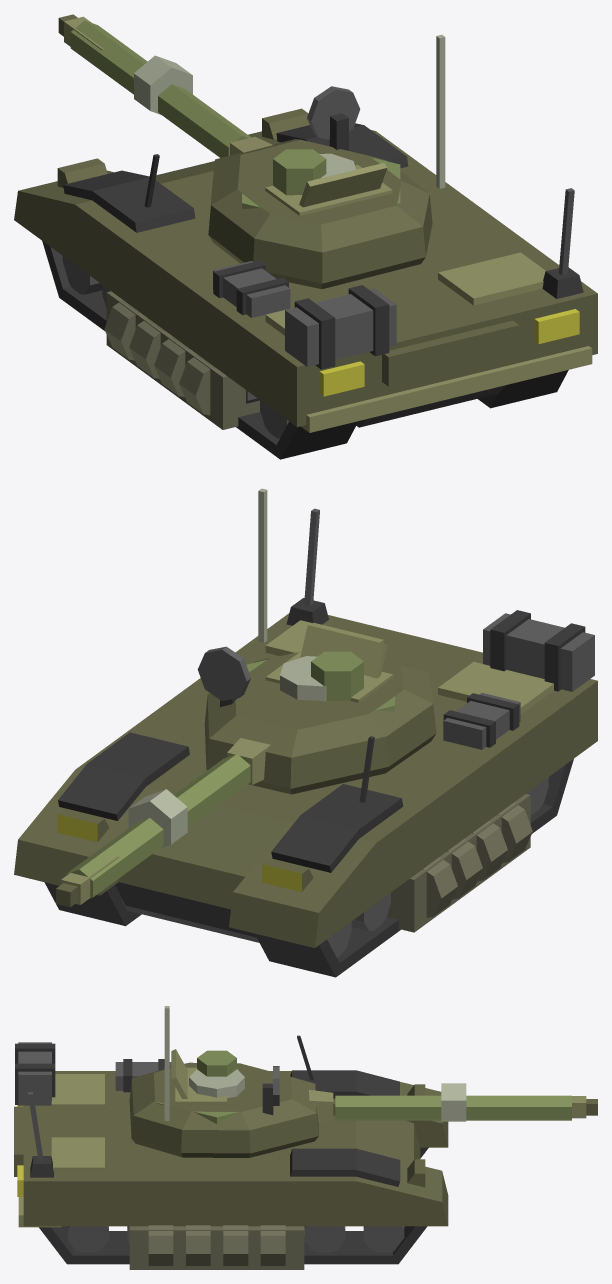
Rendered from unit_tank.glb.
3 renders of one model, top to bottom at view 1: azimuth 30°, elevation 25°; view 2: azimuth 150°, elevation 25°; view 3: azimuth 270°, elevation 25°, orthographic. The views are drawn at different scales.
Parts seen in each view (by area): view 1: Cube.002, unit_tank; view 2: Cube.002, unit_tank; view 3: Cube.002, unit_tank.
Part boxes in pixels (left/top/right/bottom): Cube.002: left=14, top=14, right=597, bottom=459; unit_tank: left=70, top=20, right=445, bottom=429; Cube.002: left=14, top=508, right=597, bottom=977; unit_tank: left=65, top=488, right=532, bottom=932; Cube.002: left=14, top=1035, right=597, bottom=1264; unit_tank: left=129, top=1006, right=571, bottom=1269.
Size of the model in its own units: 0.476 by 0.4234 by 0.9375.
